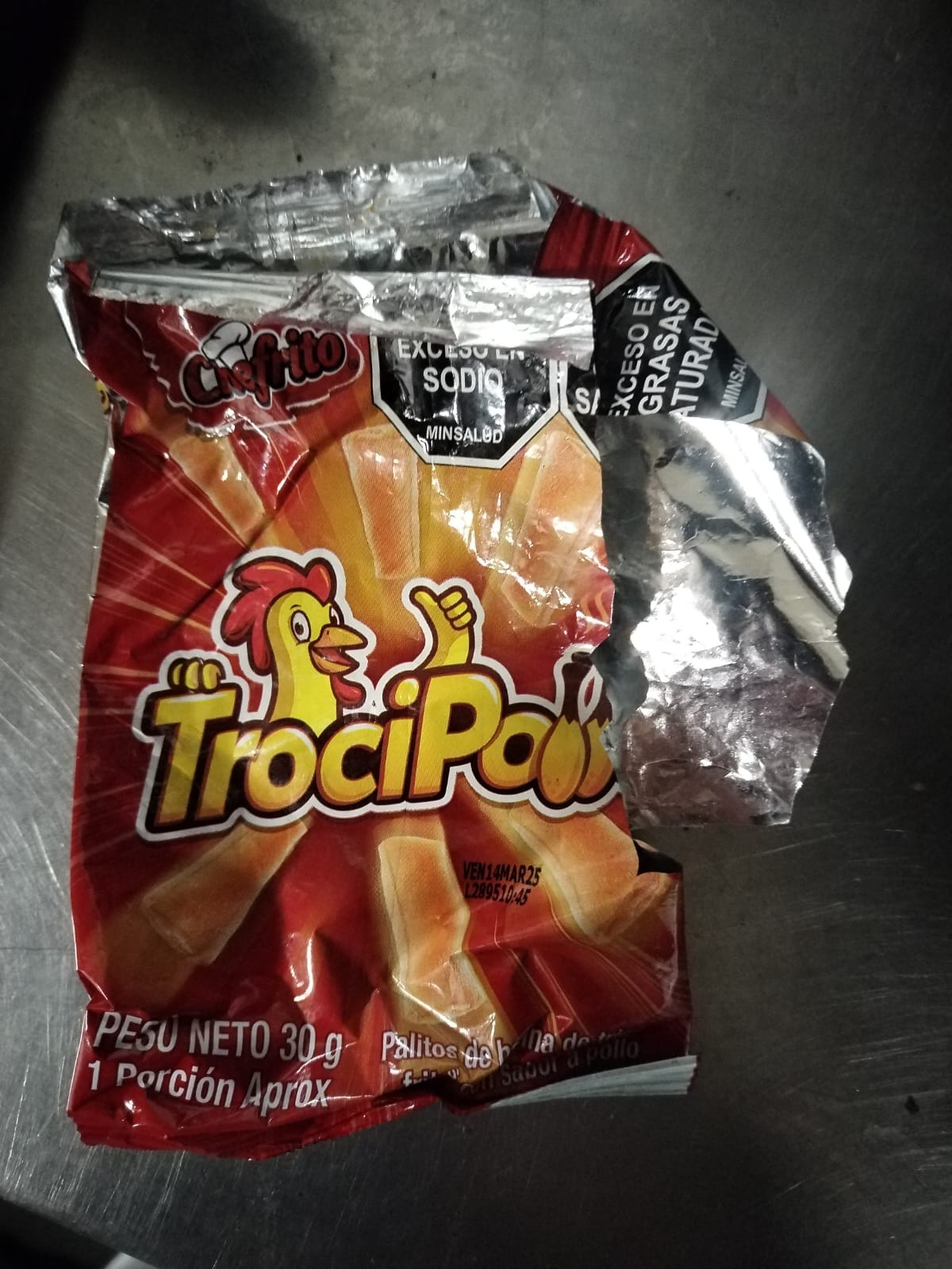Ordinario: (48, 147, 855, 1159)
